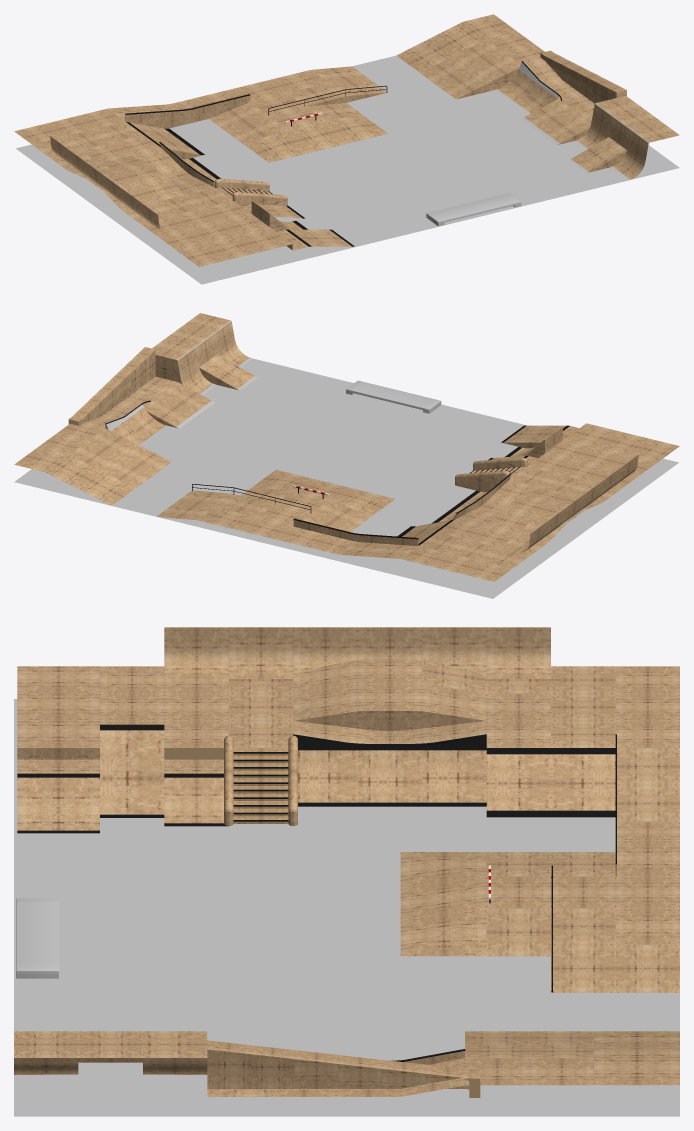
The model's file is park.fbx.
3 views of the same model, one above another, from view 1: azimuth 30°, elevation 25°; view 2: azimuth 150°, elevation 25°; view 3: azimuth 270°, elevation 25° (orthographic). The views are drawn at different scales.
Visible parts, largest first — view 1: 0.ground, transition, rampZ, boxB, quarterC, quarterB, boxA, railC, quarterA, stairBoxA, rampE, stairBoxB; view 2: 0.ground, transition, rampZ, boxB, quarterC, quarterB, boxA, railC, stairBoxB, quarterA, rampE, stairBoxA; view 3: 0.ground, transition, rampZ, quarterC, quarterA, boxB, rampE, boxA, stairBoxA, stairBoxB.
Boxes of the visible parts, x1,y1,x2,y2 form: 0.ground: (16,55,679,284); transition: (14,66,387,266); rampZ: (396,14,679,180); boxB: (540,50,626,103); quarterC: (50,136,171,233); quarterB: (495,62,558,114); boxA: (426,193,521,226); railC: (125,94,250,121); quarterA: (159,143,221,187); stairBoxA: (232,192,287,206); rampE: (251,200,307,231); stairBoxB: (214,178,269,191); 0.ground: (14,358,678,598); transition: (156,423,679,581); rampZ: (14,313,258,505); boxB: (68,347,155,425); quarterC: (516,455,638,552); quarterB: (105,404,168,446); boxA: (346,380,441,413); railC: (293,518,418,545); stairBoxB: (455,471,509,491); quarterA: (431,475,510,523); rampE: (504,426,562,458); stairBoxA: (473,457,527,470); 0.ground: (14,699,679,1116); transition: (17,659,679,992); rampZ: (14,1031,679,1096); quarterC: (164,627,550,678); quarterA: (296,736,486,806); boxB: (207,1040,480,1097); rampE: (100,724,164,817); boxA: (16,898,58,978); stairBoxA: (224,735,233,825); stairBoxB: (288,735,297,825).
Bounding box in the file's own units: 4626 × 380 × 3100.
